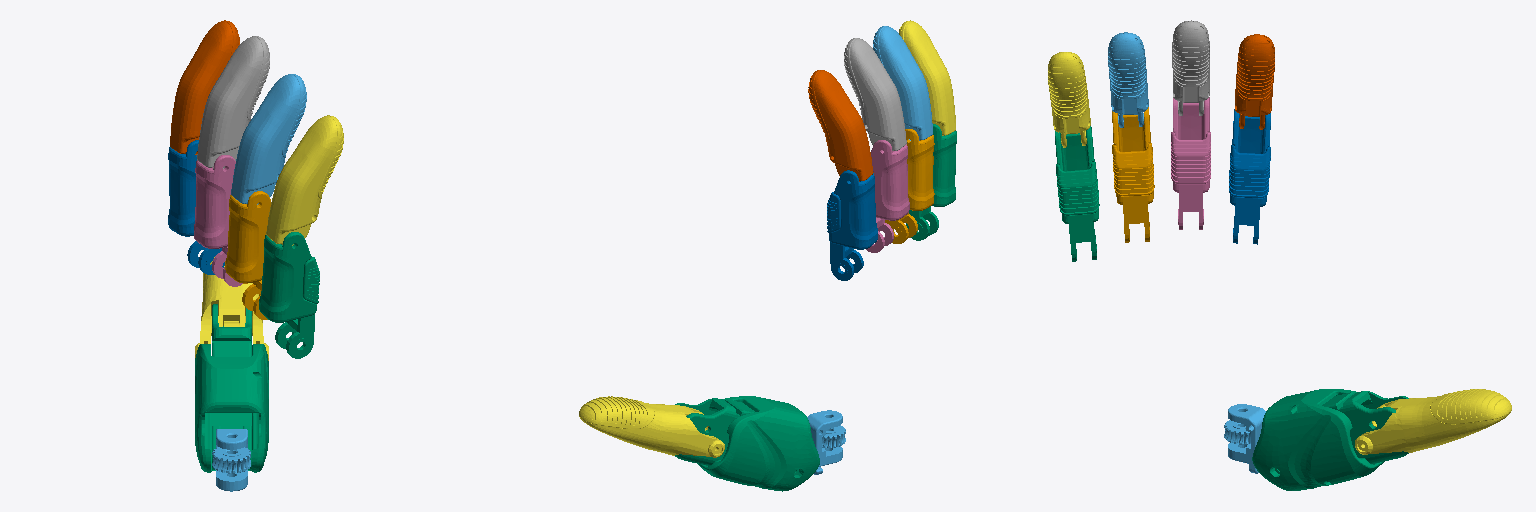
URDF robot description (o6_right):
<?xml version="1.0"?>
<robot name="o6_right">
  <link name="rh_hand_base_link">
    <inertial><origin xyz="-0.001577885681 0.0003487672594 0.05384522198" rpy="0.07278313919 0.01371007853 -0.01679286943"/><mass value="0.2374"/><inertia ixx="5.638633685e-05" ixy="0" ixz="0" iyy="3.60382079e-05" iyz="0" izz="2.458245525e-05"/></inertial>
    <visual><origin xyz="0 0 0" rpy="0 0 0"/><geometry><mesh filename="meshes/visual/rh_hand_base_link_vis.obj"/></geometry></visual>
    <collision><origin xyz="0 0 0" rpy="0 0 0"/><geometry><mesh filename="meshes/collision/rh_hand_base_link_col.obj"/></geometry></collision>
  </link>
  <link name="rh_thumb_metacarpals_base2">
    <inertial><origin xyz="0.001627957384 0.002766719783 -0.001842277256" rpy="0.2395267799 -0.009018239688 -0.5273090546"/><mass value="0.00258"/><inertia ixx="1.022808323e-07" ixy="0" ixz="0" iyy="8.756125803e-08" iyz="0" izz="5.16945819e-08"/></inertial>
    <visual><origin xyz="0 0 0" rpy="0 0 0"/><geometry><mesh filename="meshes/visual/rh_thumb_metacarpals_base2_vis.obj"/></geometry></visual>
    <collision><origin xyz="0 0 0" rpy="0 0 0"/><geometry><mesh filename="meshes/collision/rh_thumb_metacarpals_base2_col.obj"/></geometry></collision>
  </link>
  <joint name="rh_thumb_cmc_yaw" type="revolute"><parent link="rh_hand_base_link"/><child link="rh_thumb_metacarpals_base2"/><origin xyz="0.010457 0.022975 0.030794" rpy="0 0 0"/><axis xyz="0 0 -1"/><limit lower="0" upper="1.36" effort="10" velocity="1"/><dynamics damping="0" friction="0"/></joint>
  <link name="rh_thumb_metacarpals">
    <inertial><origin xyz="-1.846221332e-05 -0.000164684334 0.02269650452" rpy="-0.4339398076 0.0006535536809 0.001055480726"/><mass value="0.04724"/><inertia ixx="7.235835543e-06" ixy="0" ixz="0" iyy="4.761582697e-06" iyz="0" izz="3.502726612e-06"/></inertial>
    <visual><origin xyz="0 0 0" rpy="0 0 0"/><geometry><mesh filename="meshes/visual/rh_thumb_metacarpals_vis.obj"/></geometry></visual>
    <collision><origin xyz="0 0 0" rpy="0 0 0"/><geometry><mesh filename="meshes/collision/rh_thumb_metacarpals_col.obj"/></geometry></collision>
  </link>
  <joint name="rh_thumb_cmc_pitch" type="revolute"><parent link="rh_thumb_metacarpals_base2"/><child link="rh_thumb_metacarpals"/><origin xyz="0.0061649 0.010678 -0.004891" rpy="-1.1529 0 -0.5236"/><axis xyz="1 0 0"/><limit lower="0" upper="0.58" effort="60" velocity="1"/><dynamics damping="4" friction="0"/></joint>
  <link name="rh_thumb_distal">
    <inertial><origin xyz="-4.4744e-07 0.0041369 0.02301" rpy="-1.82481496e-05 0.0694802439 1.570780266"/><mass value="0.0142"/><inertia ixx="2.437987066e-06" ixy="0" ixz="0" iyy="2.27817634e-06" iyz="0" izz="5.065642237e-07"/></inertial>
    <visual><origin xyz="0 0 0" rpy="0 0 0"/><geometry><mesh filename="meshes/visual/rh_thumb_distal_vis.obj"/></geometry></visual>
    <collision><origin xyz="0 0 0" rpy="0 0 0"/><geometry><mesh filename="meshes/collision/rh_thumb_distal_col.obj"/></geometry></collision>
  </link>
  <joint name="rh_thumb_ip" type="revolute"><parent link="rh_thumb_metacarpals"/><child link="rh_thumb_distal"/><origin xyz="0 -0.0037776 0.045368" rpy="0 0 0"/><axis xyz="1 0 0"/><limit lower="0" upper="1.08" effort="0" velocity="1.86"/><dynamics damping="0.4" friction="0"/><mimic joint="rh_thumb_cmc_pitch" multiplier="1.86" offset="0"/></joint>
  <link name="rh_index_proximal">
    <inertial><origin xyz="-0.002086565563 -2.538387133e-06 0.0172734942" rpy="0.003689880854 0.2228833403 0.02080527153"/><mass value="0.01082"/><inertia ixx="3.661015252e-07" ixy="0" ixz="0" iyy="3.6232066e-07" iyz="0" izz="1.006728149e-07"/></inertial>
    <visual><origin xyz="0 0 0" rpy="0 0 0"/><geometry><mesh filename="meshes/visual/rh_index_proximal_vis.obj"/></geometry></visual>
    <collision><origin xyz="0 0 0" rpy="0 0 0"/><geometry><mesh filename="meshes/collision/rh_index_proximal_col.obj"/></geometry></collision>
  </link>
  <joint name="rh_index_mcp_pitch" type="revolute"><parent link="rh_hand_base_link"/><child link="rh_index_proximal"/><origin xyz="0.0024758 0.02419 0.098779" rpy="-0.05236 0 0"/><axis xyz="0 1 0"/><limit lower="0" upper="1.6" effort="60" velocity="1"/><dynamics damping="4" friction="0"/></joint>
  <link name="rh_index_distal">
    <inertial><origin xyz="0.006589866164 -5.138556421e-06 0.01943936" rpy="-0.004317899835 0.4285246287 -0.01192247138"/><mass value="0.00632"/><inertia ixx="1.962699412e-07" ixy="0" ixz="0" iyy="1.914164915e-07" iyz="0" izz="3.774836736e-08"/></inertial>
    <visual><origin xyz="0 0 0" rpy="0 0 0"/><geometry><mesh filename="meshes/visual/rh_index_distal_vis.obj"/></geometry></visual>
    <collision><origin xyz="0 0 0" rpy="0 0 0"/><geometry><mesh filename="meshes/collision/rh_index_distal_col.obj"/></geometry></collision>
  </link>
  <joint name="rh_index_dip" type="revolute"><parent link="rh_index_proximal"/><child link="rh_index_distal"/><origin xyz="-0.0052516 0 0.036625" rpy="0 0 0"/><axis xyz="0 1 0"/><limit lower="0" upper="1.43" effort="0" velocity="0.89"/><dynamics damping="0.4" friction="0"/><mimic joint="rh_index_mcp_pitch" multiplier="0.89" offset="0"/></joint>
  <link name="rh_middle_proximal">
    <inertial><origin xyz="-0.002086606541 -2.569181801e-06 0.01727350117" rpy="0.003710897027 0.2228831259 0.02089715952"/><mass value="0.01082"/><inertia ixx="3.661015011e-07" ixy="0" ixz="0" iyy="3.623216463e-07" iyz="0" izz="1.006738526e-07"/></inertial>
    <visual><origin xyz="0 0 0" rpy="0 0 0"/><geometry><mesh filename="meshes/visual/rh_middle_proximal_vis.obj"/></geometry></visual>
    <collision><origin xyz="0 0 0" rpy="0 0 0"/><geometry><mesh filename="meshes/collision/rh_middle_proximal_col.obj"/></geometry></collision>
  </link>
  <joint name="rh_middle_mcp_pitch" type="revolute"><parent link="rh_hand_base_link"/><child link="rh_middle_proximal"/><origin xyz="0.00052576 0.00634 0.1027" rpy="0 0 0"/><axis xyz="0 1 0"/><limit lower="0" upper="1.6" effort="60" velocity="1"/><dynamics damping="4" friction="0"/></joint>
  <link name="rh_middle_distal">
    <inertial><origin xyz="0.006589865163 -5.108629243e-06 0.01943933157" rpy="-0.004294471962 0.4285235912 -0.01185858462"/><mass value="0.00632"/><inertia ixx="1.962708899e-07" ixy="0" ixz="0" iyy="1.914164969e-07" iyz="0" izz="3.774871325e-08"/></inertial>
    <visual><origin xyz="0 0 0" rpy="0 0 0"/><geometry><mesh filename="meshes/visual/rh_middle_distal_vis.obj"/></geometry></visual>
    <collision><origin xyz="0 0 0" rpy="0 0 0"/><geometry><mesh filename="meshes/collision/rh_middle_distal_col.obj"/></geometry></collision>
  </link>
  <joint name="rh_middle_dip" type="revolute"><parent link="rh_middle_proximal"/><child link="rh_middle_distal"/><origin xyz="-0.0052516 0 0.036625" rpy="0 0 0"/><axis xyz="0 1 0"/><limit lower="0" upper="1.43" effort="0" velocity="0.89"/><dynamics damping="0.4" friction="0"/><mimic joint="rh_middle_mcp_pitch" multiplier="0.89" offset="0"/></joint>
  <link name="rh_ring_proximal">
    <inertial><origin xyz="-0.002086679313 -2.630004195e-06 0.01727349264" rpy="0.003747031983 0.2228811615 0.02105086341"/><mass value="0.01082"/><inertia ixx="3.661023518e-07" ixy="0" ixz="0" iyy="3.623226221e-07" iyz="0" izz="1.006750261e-07"/></inertial>
    <visual><origin xyz="0 0 0" rpy="0 0 0"/><geometry><mesh filename="meshes/visual/rh_ring_proximal_vis.obj"/></geometry></visual>
    <collision><origin xyz="0 0 0" rpy="0 0 0"/><geometry><mesh filename="meshes/collision/rh_ring_proximal_col.obj"/></geometry></collision>
  </link>
  <joint name="rh_ring_mcp_pitch" type="revolute"><parent link="rh_hand_base_link"/><child link="rh_ring_proximal"/><origin xyz="0.0010258 -0.011135 0.098767" rpy="0.05236 0 0"/><axis xyz="0 1 0"/><limit lower="0" upper="1.6" effort="60" velocity="1"/><dynamics damping="4" friction="0"/></joint>
  <link name="rh_ring_distal">
    <inertial><origin xyz="0.006589866489 -5.058835282e-06 0.01943939722" rpy="-0.004258025926 0.4285277437 -0.01175793471"/><mass value="0.00632"/><inertia ixx="1.962691565e-07" ixy="0" ixz="0" iyy="1.914155055e-07" iyz="0" izz="3.7748038e-08"/></inertial>
    <visual><origin xyz="0 0 0" rpy="0 0 0"/><geometry><mesh filename="meshes/visual/rh_ring_distal_vis.obj"/></geometry></visual>
    <collision><origin xyz="0 0 0" rpy="0 0 0"/><geometry><mesh filename="meshes/collision/rh_ring_distal_col.obj"/></geometry></collision>
  </link>
  <joint name="rh_ring_dip" type="revolute"><parent link="rh_ring_proximal"/><child link="rh_ring_distal"/><origin xyz="-0.0052516 0 0.036625" rpy="0 0 0"/><axis xyz="0 1 0"/><limit lower="0" upper="1.43" effort="0" velocity="0.89"/><dynamics damping="0.4" friction="0"/><mimic joint="rh_ring_mcp_pitch" multiplier="0.89" offset="0"/></joint>
  <link name="rh_pinky_proximal">
    <inertial><origin xyz="-0.002086735998 -2.680622512e-06 0.01727348481" rpy="0.00377517974 0.2228793266 0.02117063271"/><mass value="0.01082"/><inertia ixx="3.661031978e-07" ixy="0" ixz="0" iyy="3.623226028e-07" iyz="0" izz="1.006761994e-07"/></inertial>
    <visual><origin xyz="0 0 0" rpy="0 0 0"/><geometry><mesh filename="meshes/visual/rh_pinky_proximal_vis.obj"/></geometry></visual>
    <collision><origin xyz="0 0 0" rpy="0 0 0"/><geometry><mesh filename="meshes/collision/rh_pinky_proximal_col.obj"/></geometry></collision>
  </link>
  <joint name="rh_pinky_mcp_pitch" type="revolute"><parent link="rh_hand_base_link"/><child link="rh_pinky_proximal"/><origin xyz="0.0024758 -0.028372 0.092741" rpy="0.087266 0 0"/><axis xyz="0 1 0"/><limit lower="0" upper="1.6" effort="60" velocity="1"/><dynamics damping="4" friction="0"/></joint>
  <link name="rh_pinky_distal">
    <inertial><origin xyz="0.006589875889 -5.030875342e-06 0.01943944911" rpy="-0.004236482212 0.4285305001 -0.01169685419"/><mass value="0.00632"/><inertia ixx="1.962683818e-07" ixy="0" ixz="0" iyy="1.914145105e-07" iyz="0" izz="3.774770772e-08"/></inertial>
    <visual><origin xyz="0 0 0" rpy="0 0 0"/><geometry><mesh filename="meshes/visual/rh_pinky_distal_vis.obj"/></geometry></visual>
    <collision><origin xyz="0 0 0" rpy="0 0 0"/><geometry><mesh filename="meshes/collision/rh_pinky_distal_col.obj"/></geometry></collision>
  </link>
  <joint name="rh_pinky_dip" type="revolute"><parent link="rh_pinky_proximal"/><child link="rh_pinky_distal"/><origin xyz="-0.0052516 0 0.036625" rpy="0 0 0"/><axis xyz="0 1 0"/><limit lower="0" upper="1.43" effort="0" velocity="0.89"/><dynamics damping="0.4" friction="0"/><mimic joint="rh_pinky_mcp_pitch" multiplier="0.89" offset="0"/></joint>
</robot>

--- What the picture shows (computed from the rendered views, not written in the file) ---
The picture shows the robot from 3 angles, left to right: view 1: azimuth 30°, elevation 25°; view 2: azimuth 150°, elevation 25°; view 3: azimuth 270°, elevation 25°; orthographic projection.
Robot: o6_right — 12 links, 11 joints (11 revolute); root link rh_hand_base_link; default pose: all joints at 0.
Visible links, largest first — view 1: rh_thumb_metacarpals, rh_pinky_proximal, rh_pinky_distal, rh_ring_distal, rh_middle_distal, rh_index_distal, rh_ring_proximal, rh_middle_proximal, rh_index_proximal, rh_thumb_distal, rh_thumb_metacarpals_base2; view 2: rh_thumb_metacarpals, rh_thumb_distal, rh_index_proximal, rh_middle_distal, rh_index_distal, rh_ring_distal, rh_middle_proximal, rh_pinky_distal, rh_ring_proximal, rh_pinky_proximal, rh_thumb_metacarpals_base2; view 3: rh_thumb_metacarpals, rh_thumb_distal, rh_pinky_proximal, rh_ring_proximal, rh_index_proximal, rh_middle_proximal, rh_pinky_distal, rh_ring_distal, rh_index_distal, rh_middle_distal, rh_thumb_metacarpals_base2.
Boxes of the visible links, x1,y1,x2,y2 form: rh_thumb_metacarpals: [195, 304, 268, 472]; rh_pinky_proximal: [259, 232, 319, 358]; rh_pinky_distal: [266, 115, 343, 245]; rh_ring_distal: [231, 74, 306, 204]; rh_middle_distal: [197, 36, 269, 168]; rh_index_distal: [170, 20, 239, 154]; rh_ring_proximal: [225, 191, 270, 319]; rh_middle_proximal: [194, 155, 242, 286]; rh_index_proximal: [168, 140, 224, 274]; rh_thumb_distal: [195, 257, 268, 360]; rh_thumb_metacarpals_base2: [212, 429, 250, 491]; rh_thumb_metacarpals: [675, 396, 819, 491]; rh_thumb_distal: [579, 396, 724, 457]; rh_index_proximal: [827, 170, 877, 280]; rh_middle_distal: [844, 38, 906, 150]; rh_index_distal: [808, 70, 873, 181]; rh_ring_distal: [873, 26, 932, 140]; rh_middle_proximal: [866, 140, 909, 252]; rh_pinky_distal: [899, 20, 955, 135]; rh_ring_proximal: [885, 129, 934, 243]; rh_pinky_proximal: [906, 124, 956, 240]; rh_thumb_metacarpals_base2: [807, 410, 845, 474]; rh_thumb_metacarpals: [1252, 389, 1408, 490]; rh_thumb_distal: [1355, 389, 1511, 454]; rh_pinky_proximal: [1055, 126, 1099, 261]; rh_ring_proximal: [1112, 107, 1154, 242]; rh_index_proximal: [1229, 109, 1270, 244]; rh_middle_proximal: [1171, 97, 1210, 229]; rh_pinky_distal: [1048, 52, 1090, 147]; rh_ring_distal: [1108, 32, 1148, 127]; rh_index_distal: [1235, 34, 1274, 129]; rh_middle_distal: [1172, 20, 1209, 115]; rh_thumb_metacarpals_base2: [1224, 404, 1265, 473].
Bounding box of the posed robot: 0.0747 × 0.1505 × 0.1604 m (x, y, z).
11 mesh visuals loaded from 12 distinct referenced files (11 OBJ); not drawn: 1 (reference not matched to a file when rendering).
